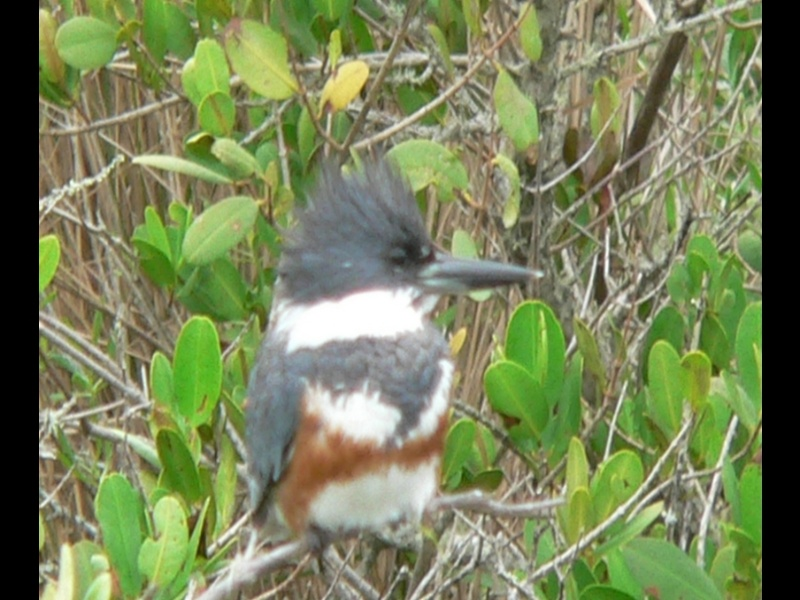kingfisher: (236, 144, 545, 558)
